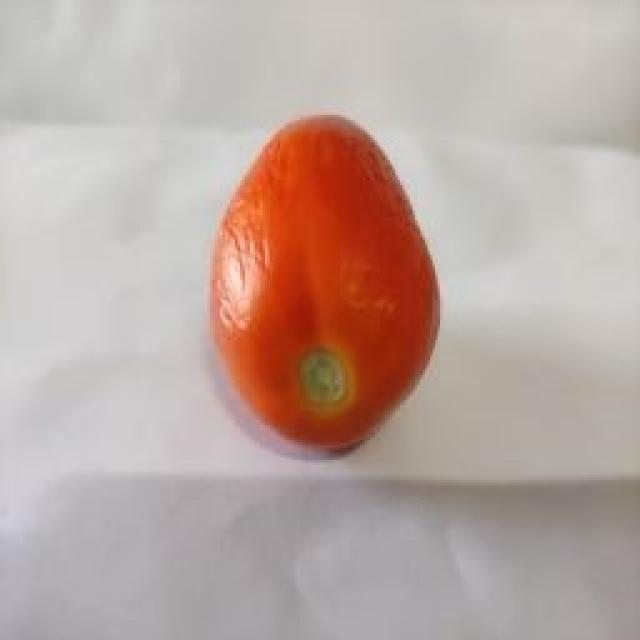overripe: (204, 109, 448, 455)
